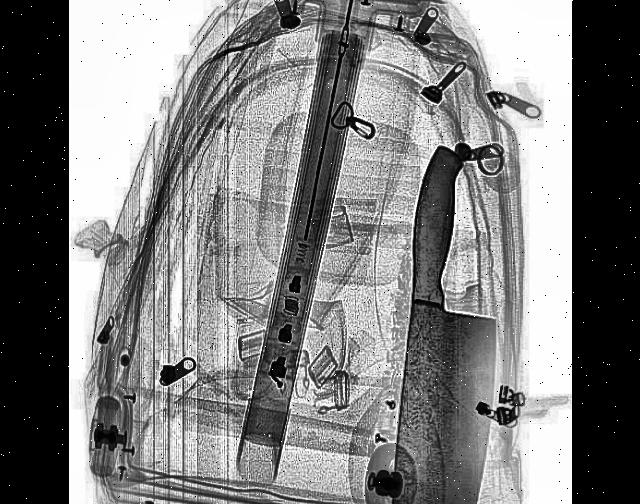Knife: (379, 144, 524, 504)
